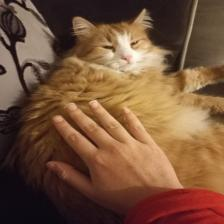five: (44, 94, 186, 211)
